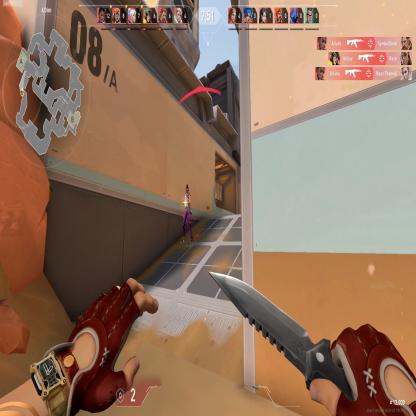enemy: (180, 182, 194, 244)
